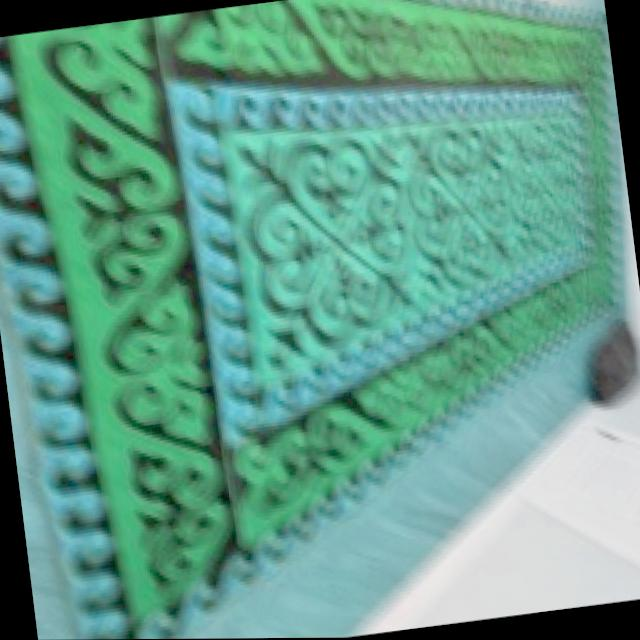Unity: (234, 136, 416, 378)
